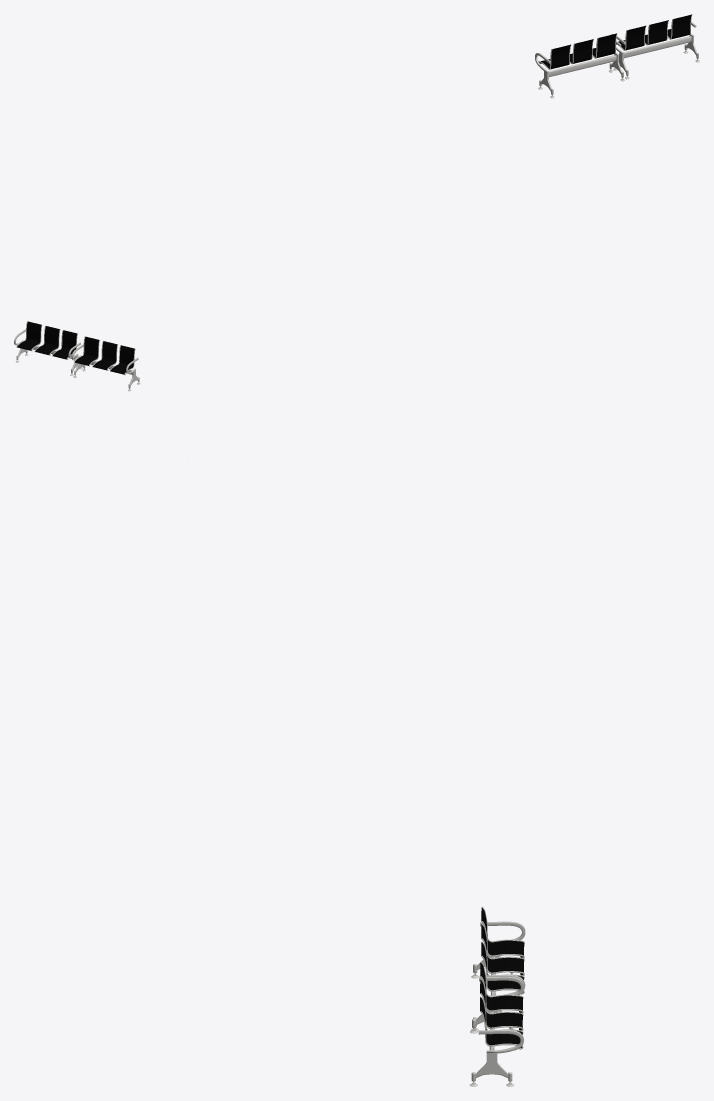
Rendered from 1764478770_map_2nd_floor.glb.
The picture shows the model from 3 angles, top to bottom: view 1: azimuth 30°, elevation 25°; view 2: azimuth 150°, elevation 25°; view 3: azimuth 270°, elevation 25°; orthographic projection. The views are drawn at different scales.
Visible parts, largest first — view 1: waiting chair_alluminum_0.017, waiting chair_alluminum_0.016; view 2: waiting chair_alluminum_0.017, waiting chair_alluminum_0.016; view 3: waiting chair_alluminum_0.016, waiting chair_alluminum_0.017.
Boxes of the visible parts, bbox=[...] form: waiting chair_alluminum_0.017: bbox=[535, 33, 624, 98]; waiting chair_alluminum_0.016: bbox=[611, 14, 699, 79]; waiting chair_alluminum_0.017: bbox=[71, 336, 140, 391]; waiting chair_alluminum_0.016: bbox=[14, 321, 82, 375]; waiting chair_alluminum_0.016: bbox=[470, 962, 524, 1086]; waiting chair_alluminum_0.017: bbox=[471, 906, 525, 1030].
Size of the model in its own units: 7986 by 465 by 1931.
30 materials, 7 textured.
